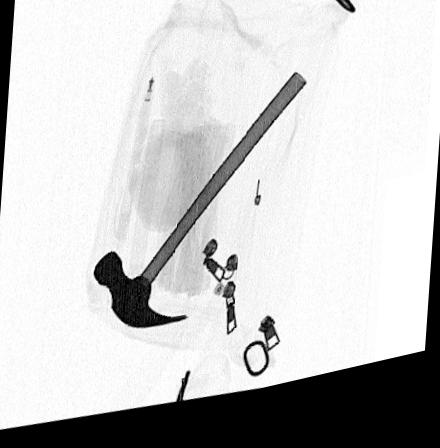Hammer: (91, 85, 306, 335)
